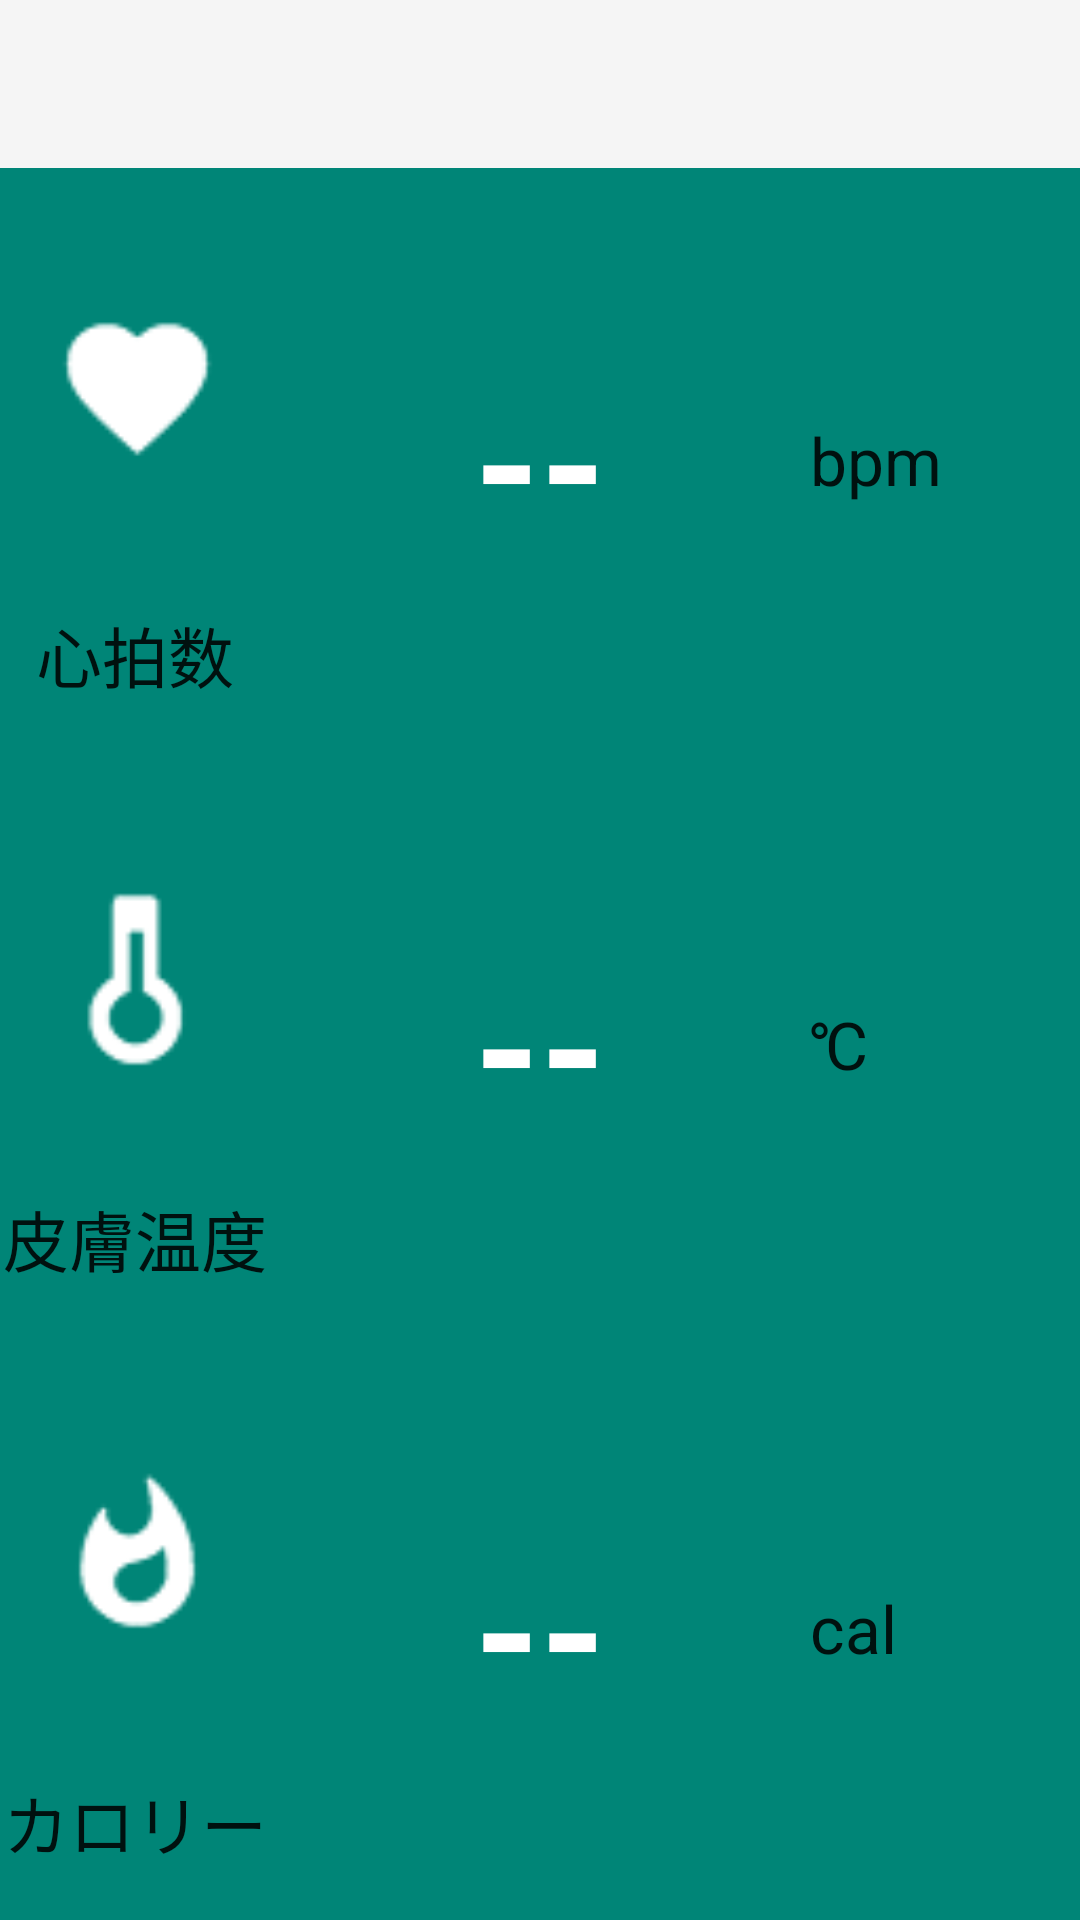

Locate icon controls on the screen. Image size 1080px×1920px, boxes as box=[x1, y1, x2, y2].
cal: box=[78, 1474, 196, 1628]
heart rate: box=[65, 322, 211, 456]
